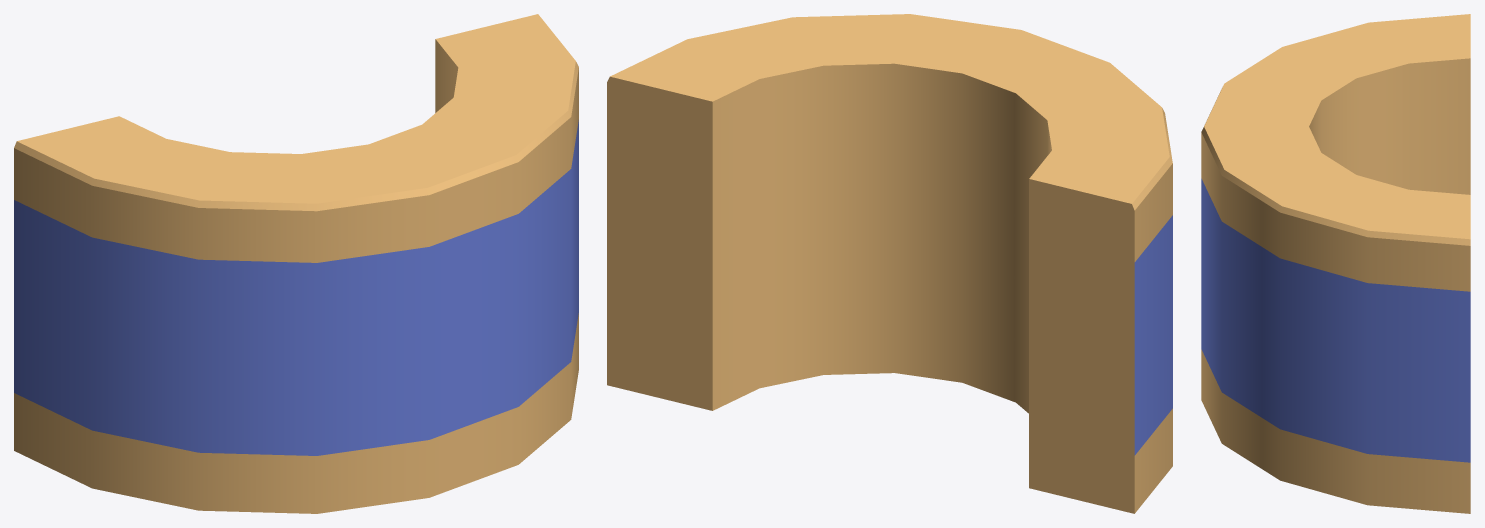
The model's file is Counter_01.FBX.
3 views of the same model, side by side, from view 1: azimuth 30°, elevation 25°; view 2: azimuth 150°, elevation 25°; view 3: azimuth 270°, elevation 25° (orthographic). The views are drawn at different scales.
Parts seen in each view (by area): view 1: Counter_01; view 2: Counter_01; view 3: Counter_01.
Boxes of the visible parts, <box> form: Counter_01: <box>14,14,578,513</box>; Counter_01: <box>607,14,1172,513</box>; Counter_01: <box>1201,14,1470,513</box>.
Bounding box in the file's own units: 1.66 × 0.9315 × 0.8312.
